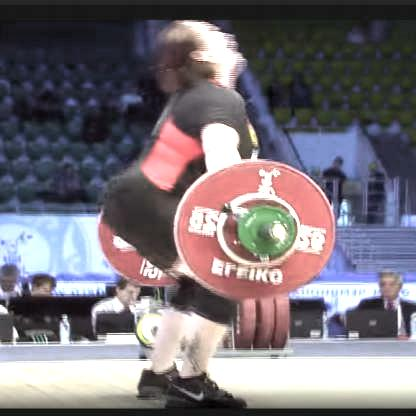Barbell: (264, 217, 289, 243)
